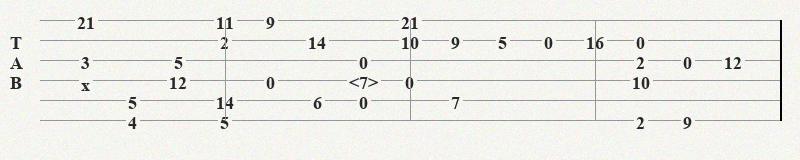0: (266, 72, 279, 88), (359, 52, 372, 68), (359, 92, 372, 108), (405, 72, 418, 88), (544, 32, 557, 48), (636, 32, 649, 48), (683, 52, 696, 68)
10: (401, 32, 423, 48), (632, 72, 654, 88)
11: (216, 12, 238, 28)
12: (169, 72, 191, 88), (724, 52, 746, 68)
14: (216, 92, 238, 108), (308, 32, 330, 48)
16: (586, 32, 608, 48)
2: (220, 32, 233, 48), (636, 52, 649, 68), (636, 112, 649, 128)
21: (77, 12, 99, 28), (401, 12, 423, 28)
3: (81, 52, 94, 68)
4: (128, 112, 141, 128)
5: (128, 92, 141, 108), (174, 52, 187, 68), (220, 112, 233, 128), (498, 32, 511, 48)
6: (313, 92, 326, 108)
7: (451, 92, 464, 108)
9: (266, 12, 279, 28), (451, 32, 464, 48), (683, 112, 696, 128)
harmonic: (349, 72, 382, 88)
x: (81, 74, 94, 86)
